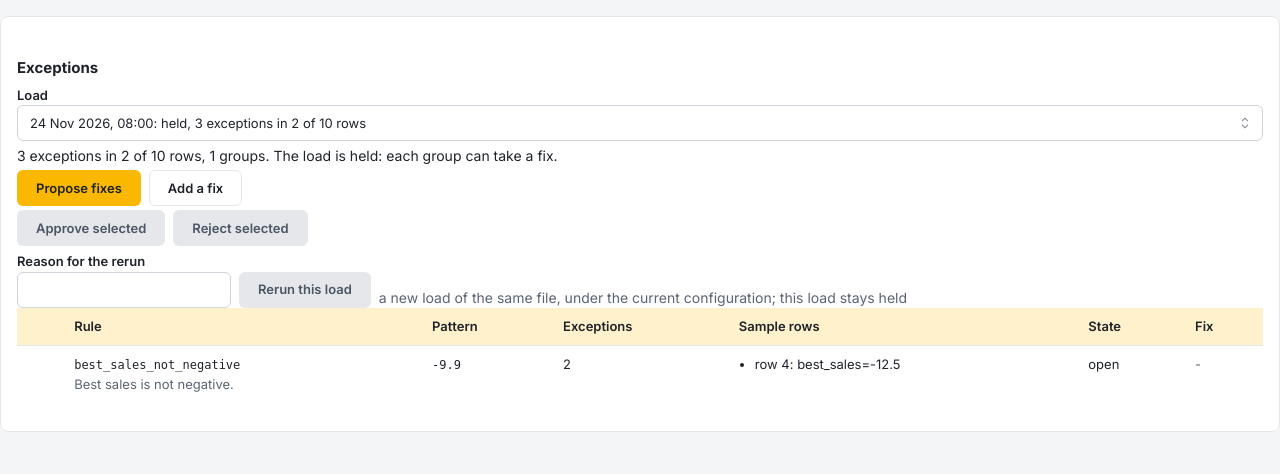
Test: a held load is rerun with a reason; the typed result is said in words
Expected: the row with test id "exception-group-g1" is shown, [17,346,1263,403]
Expected: the button "Rerun this load" is disabled, [239,272,371,308]
In the field labelled "Reason for the rerun": (124,290) [17,272,231,308], type "Waived."
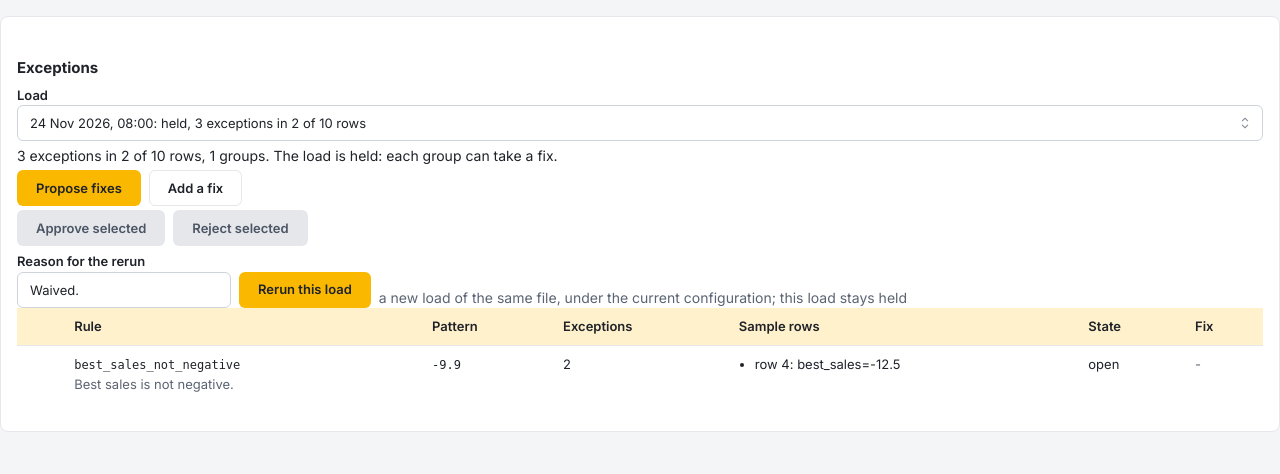
Click the button "Rerun this load": (305,290) [239,272,371,308]
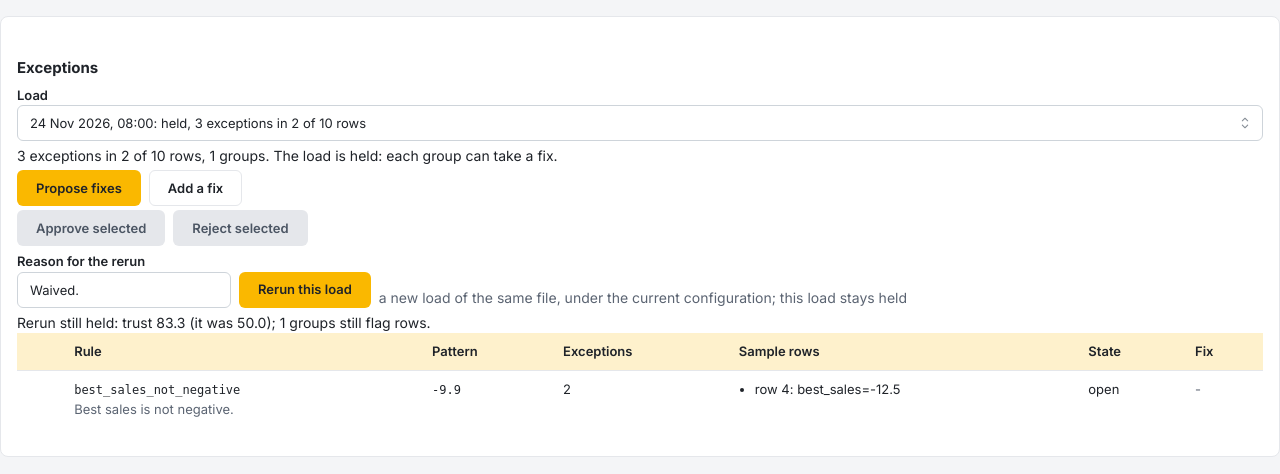
Expected: the text with test id "rerun-result" shows "still held", [17,314,431,330]
Expected: the text with test id "rerun-result" shows "83.3", [17,314,431,330]
Expected: the text with test id "rerun-result" shows "50.0", [17,314,431,330]
